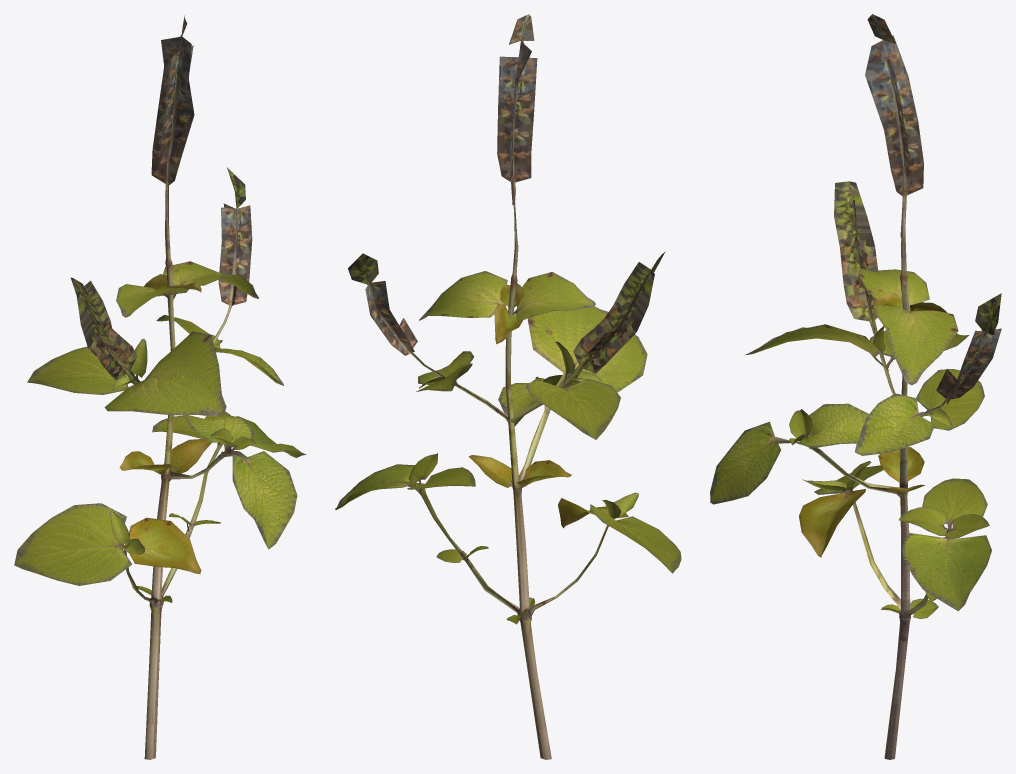
The model's file is shrub_03_v4.glb.
The picture shows the model from 3 angles, left to right: view 1: azimuth 30°, elevation 25°; view 2: azimuth 150°, elevation 25°; view 3: azimuth 270°, elevation 25°; orthographic projection. The views are drawn at different scales.
Parts seen in each view (by area): view 1: lod0; view 2: lod0; view 3: lod0.
Part boxes in pixels (x1,y1,x2,y2): lod0: (14,15,306,759); lod0: (335,14,681,759); lod0: (710,14,1001,759).
Size of what is drawn, in the model's own units: 0.1128 by 0.2556 by 0.0893.
1 material, 1 textured.
